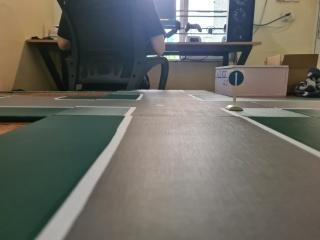straight: (226, 69, 247, 87)
